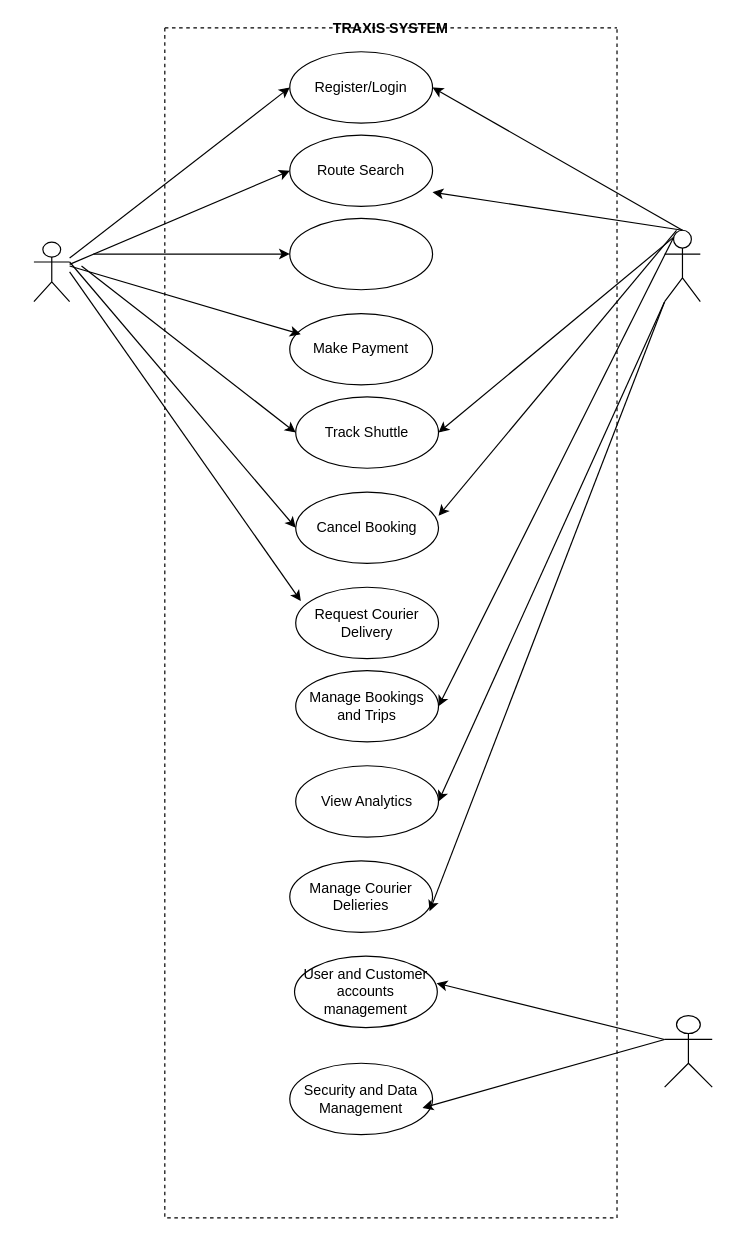
Image size: 751x1239. Some labels were removed from this diagram. Here are the shapes that lost their labels. From the top down, the centre of each, then its label:
At pixel 51 271: "Customer".
At pixel 361 253: "Book Seat".
At pixel 681 265: "Operator".
At pixel 687 1050: "Administrator".
